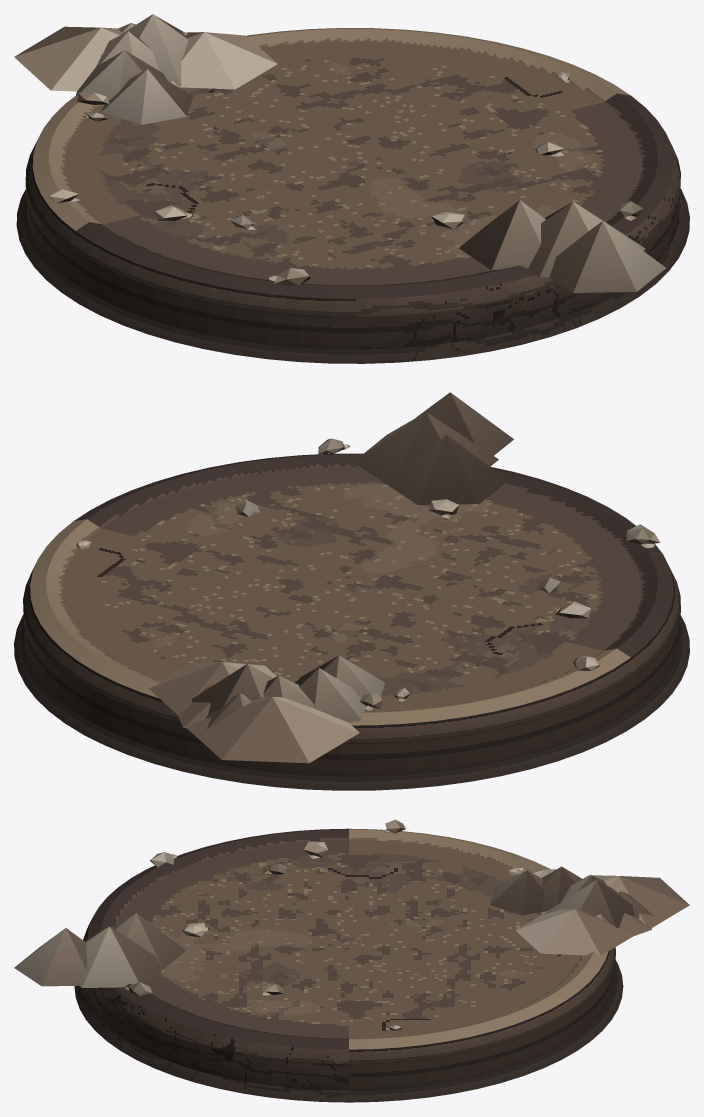
The model's file is platform_rock.glb.
The picture shows the model from 3 angles, top to bottom: view 1: azimuth 30°, elevation 25°; view 2: azimuth 150°, elevation 25°; view 3: azimuth 270°, elevation 25°; orthographic projection. The views are drawn at different scales.
Parts seen in each view (by area): view 1: platform_rock, plat_rock; view 2: platform_rock, plat_rock; view 3: platform_rock, plat_rock.
Boxes of the visible parts, x1,y1,x2,y2 form: platform_rock: (16, 28, 689, 363); plat_rock: (14, 14, 665, 292); platform_rock: (14, 453, 689, 790); plat_rock: (76, 392, 660, 763); platform_rock: (74, 828, 623, 1102); plat_rock: (14, 819, 689, 1030).
Bounding box in the file's own units: 2.1 × 0.3773 × 2.59.
Materials: 3 (2 with a texture image).
